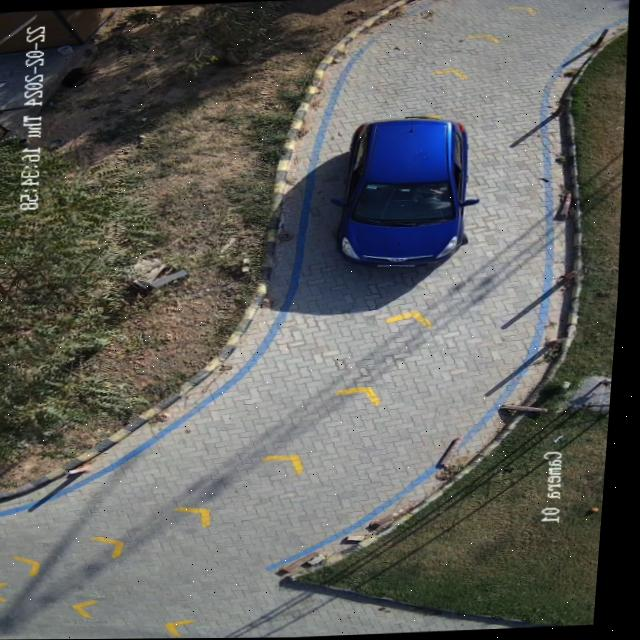car: (335, 117, 479, 266)
